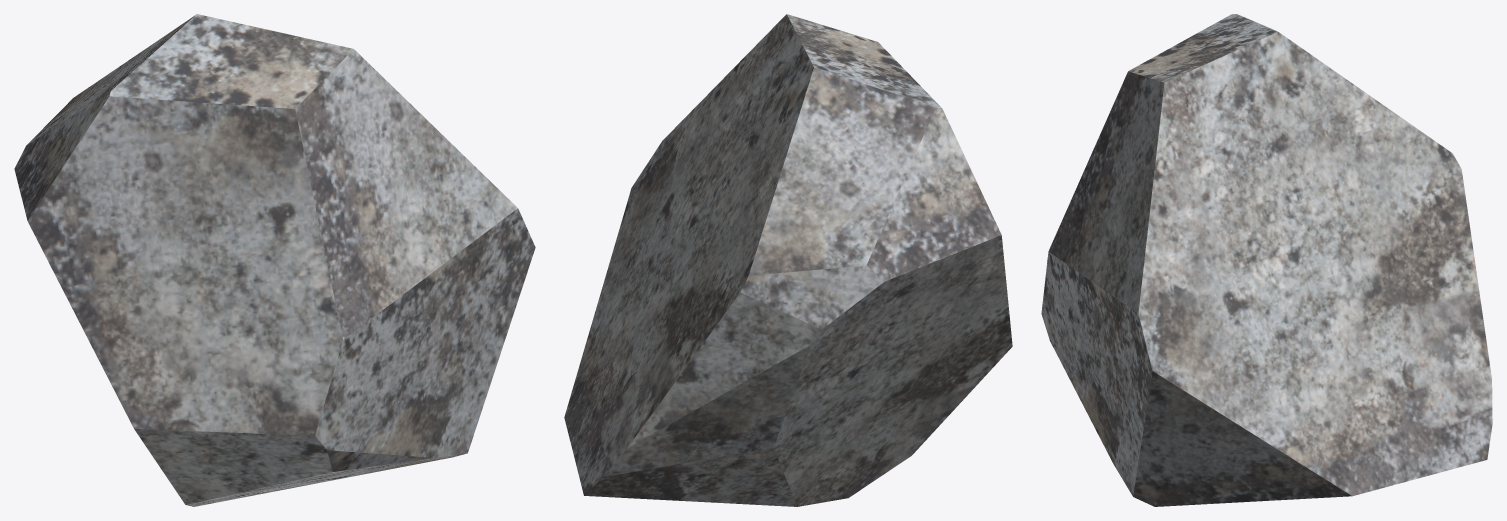
Rendered from Asteroid_Large_001_02_008_03_030.fbx.
3 views of the same model, side by side, from view 1: azimuth 30°, elevation 25°; view 2: azimuth 150°, elevation 25°; view 3: azimuth 270°, elevation 25° (orthographic). The views are drawn at different scales.
Visible parts, largest first — view 1: Asteroid_Large_001_02_008_03_030; view 2: Asteroid_Large_001_02_008_03_030; view 3: Asteroid_Large_001_02_008_03_030.
Part boxes in pixels (x1=…): Asteroid_Large_001_02_008_03_030: x1=14, y1=14, x2=535, y2=506; Asteroid_Large_001_02_008_03_030: x1=564, y1=14, x2=1012, y2=506; Asteroid_Large_001_02_008_03_030: x1=1041, y1=14, x2=1492, y2=506.
Bounding box in the file's own units: 11.97 × 11.95 × 11.47.
